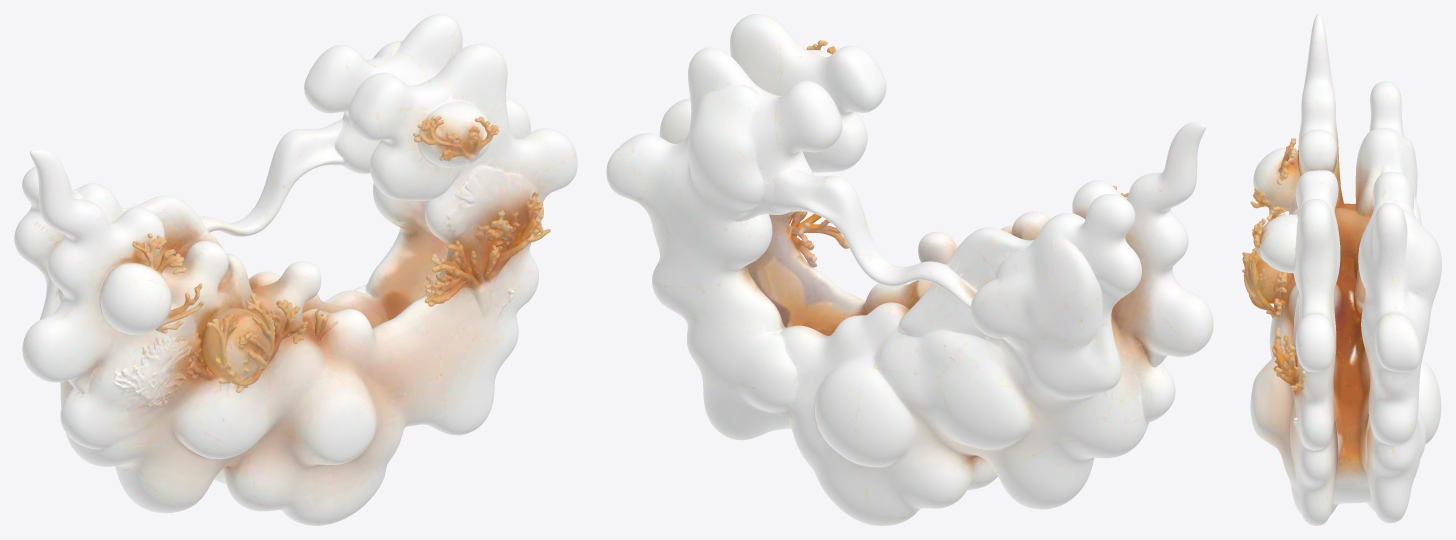
File: perly-mobile.glb
3 views of the same model, side by side, from view 1: azimuth 30°, elevation 25°; view 2: azimuth 150°, elevation 25°; view 3: azimuth 270°, elevation 25° (orthographic). The views are drawn at different scales.
Size of the model in its own units: 1.9 by 1.47 by 0.7019.
Materials: 1 (1 with a texture image).
